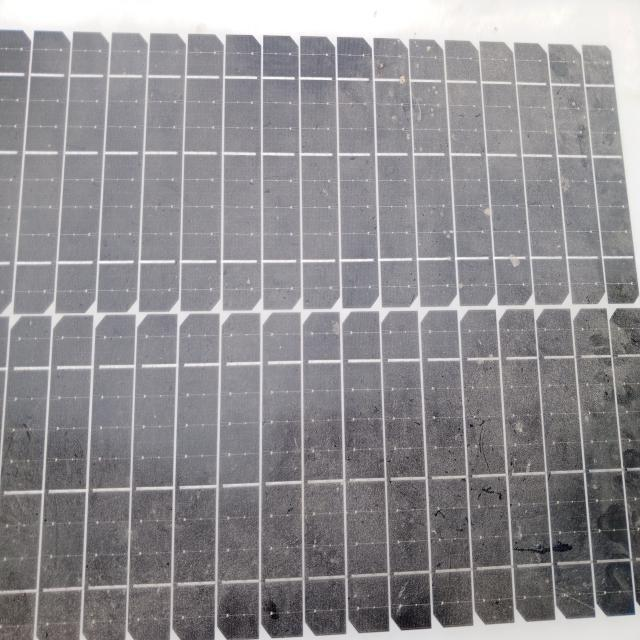Surface Contaminant: (16, 17, 629, 626)
